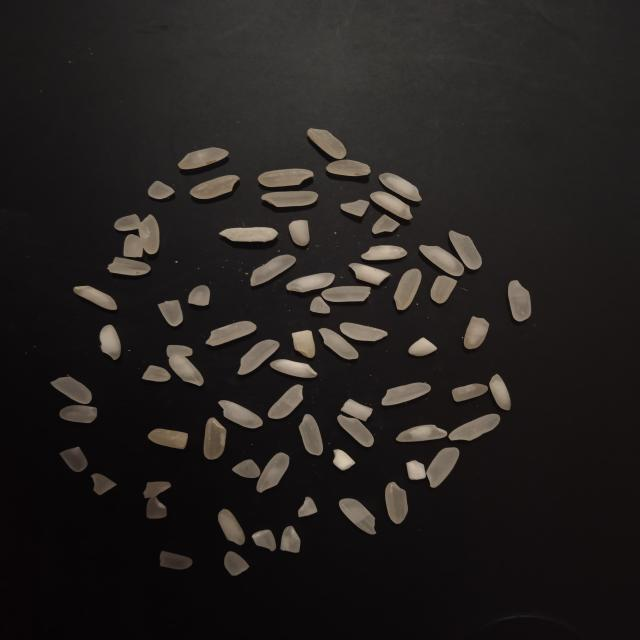Broken: (49, 376, 92, 405), (347, 262, 391, 286), (463, 316, 489, 350), (107, 256, 151, 276), (323, 285, 373, 302), (148, 428, 188, 449), (339, 398, 373, 422), (430, 275, 458, 304), (58, 446, 88, 473), (326, 160, 372, 177), (59, 405, 98, 424), (158, 299, 184, 327), (452, 383, 488, 402), (223, 551, 250, 576), (292, 330, 316, 358), (159, 551, 193, 570), (372, 212, 399, 235), (252, 528, 277, 552), (407, 336, 437, 356), (91, 473, 117, 496), (280, 526, 301, 553), (147, 180, 175, 200), (289, 220, 310, 246), (232, 459, 260, 478), (332, 449, 356, 471), (340, 200, 369, 217), (146, 497, 168, 519), (144, 481, 172, 498), (114, 214, 142, 231), (188, 285, 210, 306), (298, 495, 318, 518), (144, 366, 172, 382), (124, 234, 142, 258), (406, 460, 426, 480), (309, 296, 331, 314), (167, 344, 193, 357)
Full: (238, 339, 282, 375), (250, 255, 297, 288), (448, 413, 501, 442), (419, 244, 464, 276), (339, 498, 376, 536), (256, 452, 290, 493), (427, 447, 460, 488), (218, 399, 263, 429), (206, 320, 257, 346), (319, 328, 359, 361), (449, 230, 482, 270), (190, 174, 240, 200), (337, 414, 375, 448), (379, 172, 422, 202), (307, 128, 347, 160), (268, 385, 304, 420), (381, 382, 432, 406), (371, 192, 413, 221), (178, 147, 230, 170), (394, 268, 422, 310), (168, 354, 204, 386), (216, 508, 246, 546), (298, 414, 324, 456), (74, 286, 118, 310), (257, 169, 315, 187), (508, 279, 532, 322), (385, 481, 409, 524), (203, 417, 226, 460), (261, 191, 319, 208), (396, 424, 448, 442), (287, 273, 336, 292), (339, 322, 388, 341), (219, 227, 278, 242), (269, 358, 317, 376), (490, 374, 511, 411), (100, 324, 122, 359), (140, 215, 159, 255), (362, 245, 408, 260)
